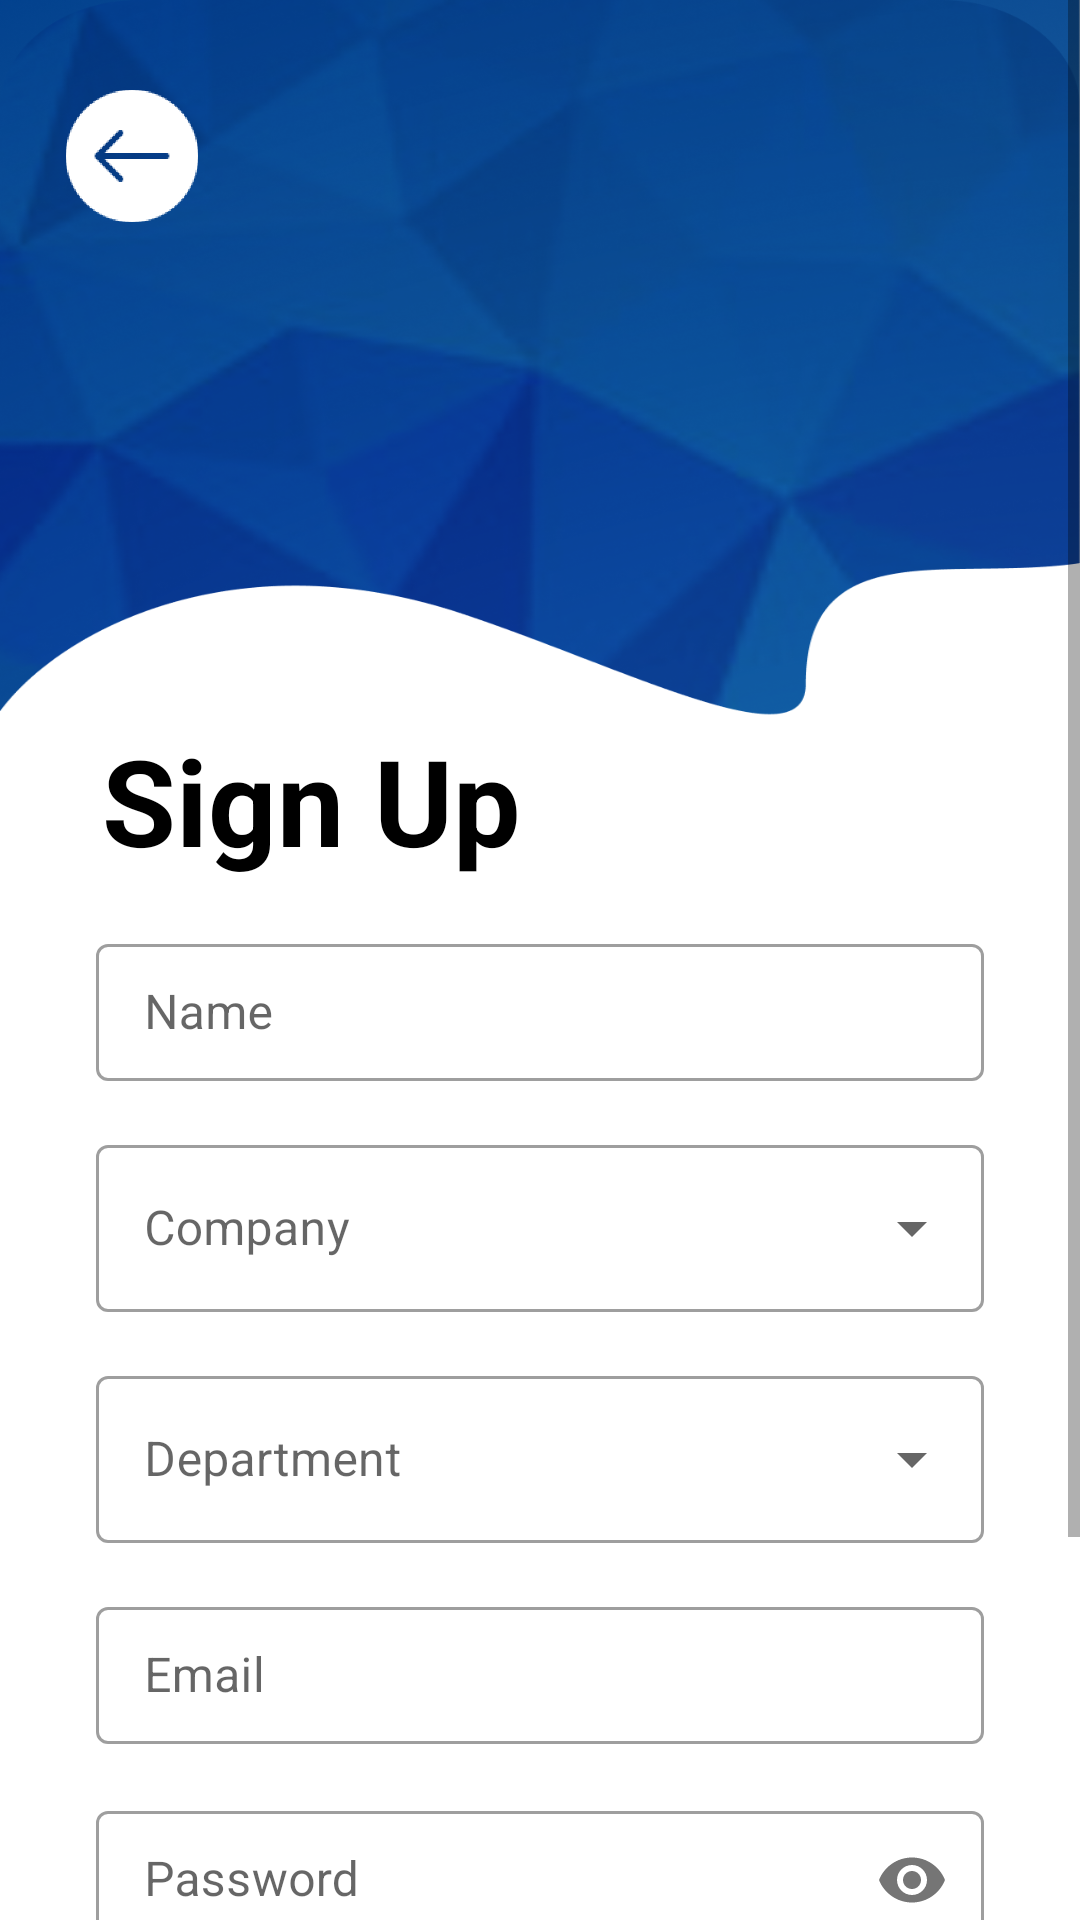

Icons on this 1080×1920 Android screen, each with the point to tap as point (x, y):
Back Button: point (132, 156)
